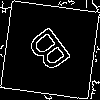B: (25, 25, 79, 82)
